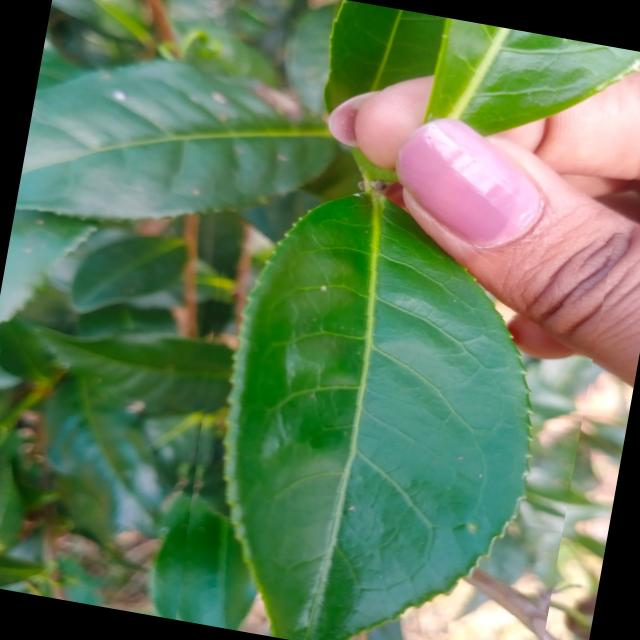Category D 7+ days, Not for Tea: (154, 143, 618, 640)
